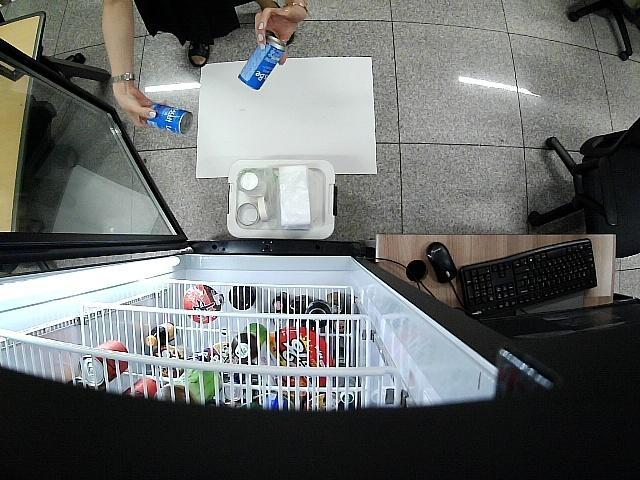15_letsbe: (240, 34, 286, 91), (144, 105, 193, 132)
